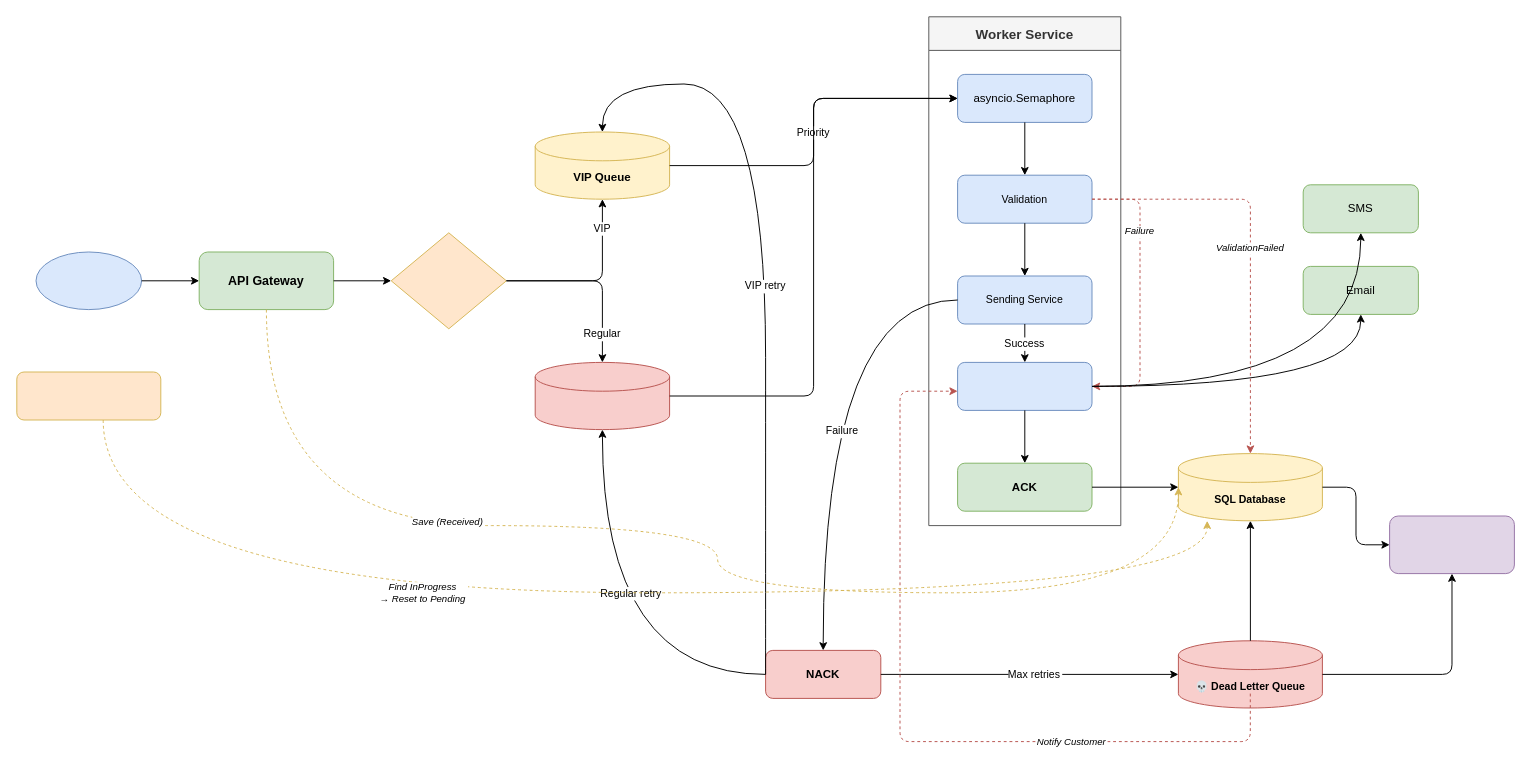
The diagram is 1531 pixels wide and 766 high, and some of its shapes have lost their labels. Each missing label, with the box of its shape:
Admin API: (1389, 515, 1514, 574)
Client: (35, 251, 142, 310)
Notification Service: (957, 361, 1092, 410)
RabbitMQ Exchange: (390, 232, 506, 329)
Regular Queue: (534, 361, 670, 430)
Startup Recovery: (16, 371, 161, 420)
